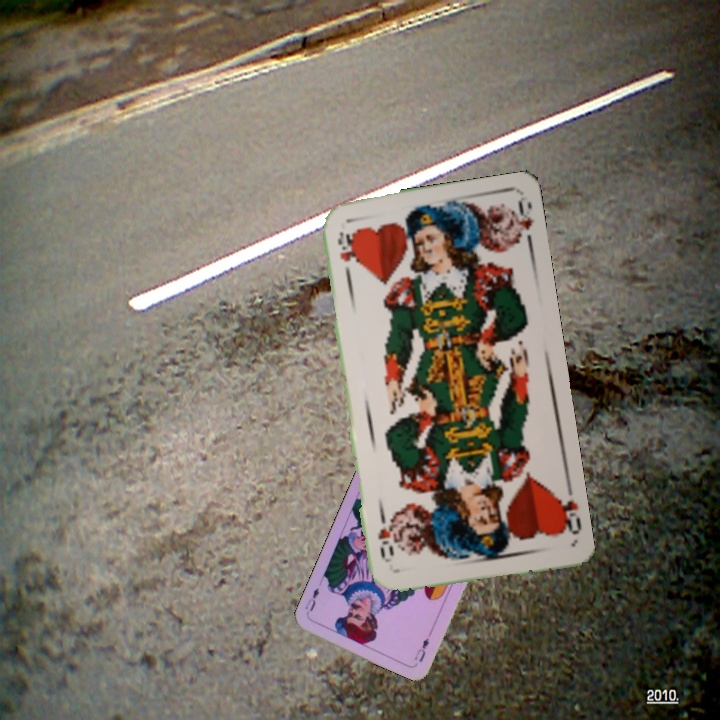EU: (410, 634, 432, 665)
HO: (551, 487, 584, 538), (333, 227, 355, 282)
